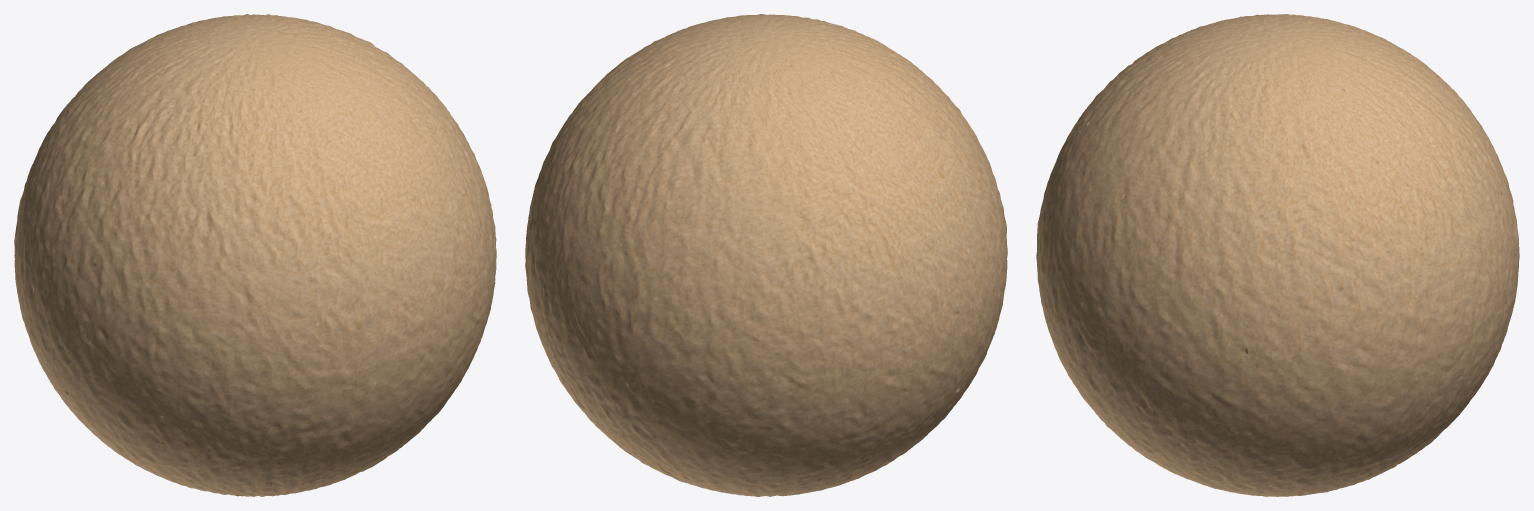
Rendered from polar_fleece_1k.gltf.
The picture shows the model from 3 angles, left to right: view 1: azimuth 30°, elevation 25°; view 2: azimuth 150°, elevation 25°; view 3: azimuth 270°, elevation 25°; orthographic projection.
Parts seen in each view (by area): view 1: sphere_gltf; view 2: sphere_gltf; view 3: sphere_gltf.
Boxes of the visible parts, x1,y1,x2,y2 form: sphere_gltf: (14, 14, 496, 496); sphere_gltf: (525, 14, 1007, 496); sphere_gltf: (1036, 14, 1519, 496).
Bounding box in the file's own units: 0.2719 × 0.2721 × 0.272.
Materials: 1 (1 with a texture image).
